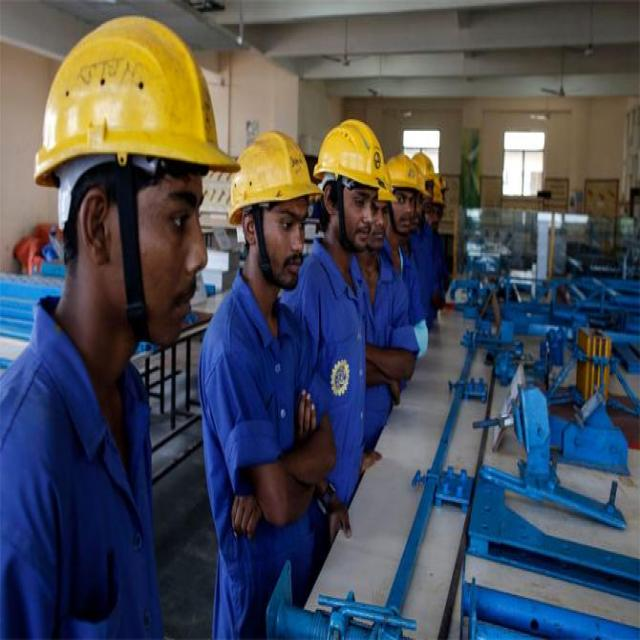Safety-Helmet: (32, 11, 233, 192), (226, 125, 320, 224), (313, 113, 391, 194)
